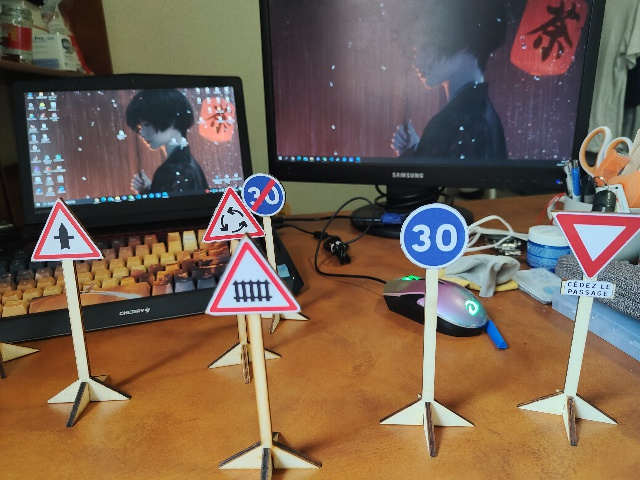ban: (243, 174, 286, 215)
cycle: (204, 188, 265, 238)
first: (29, 199, 105, 260)
second: (552, 210, 637, 300)
thirty: (400, 203, 469, 270)
train: (203, 238, 300, 316)
